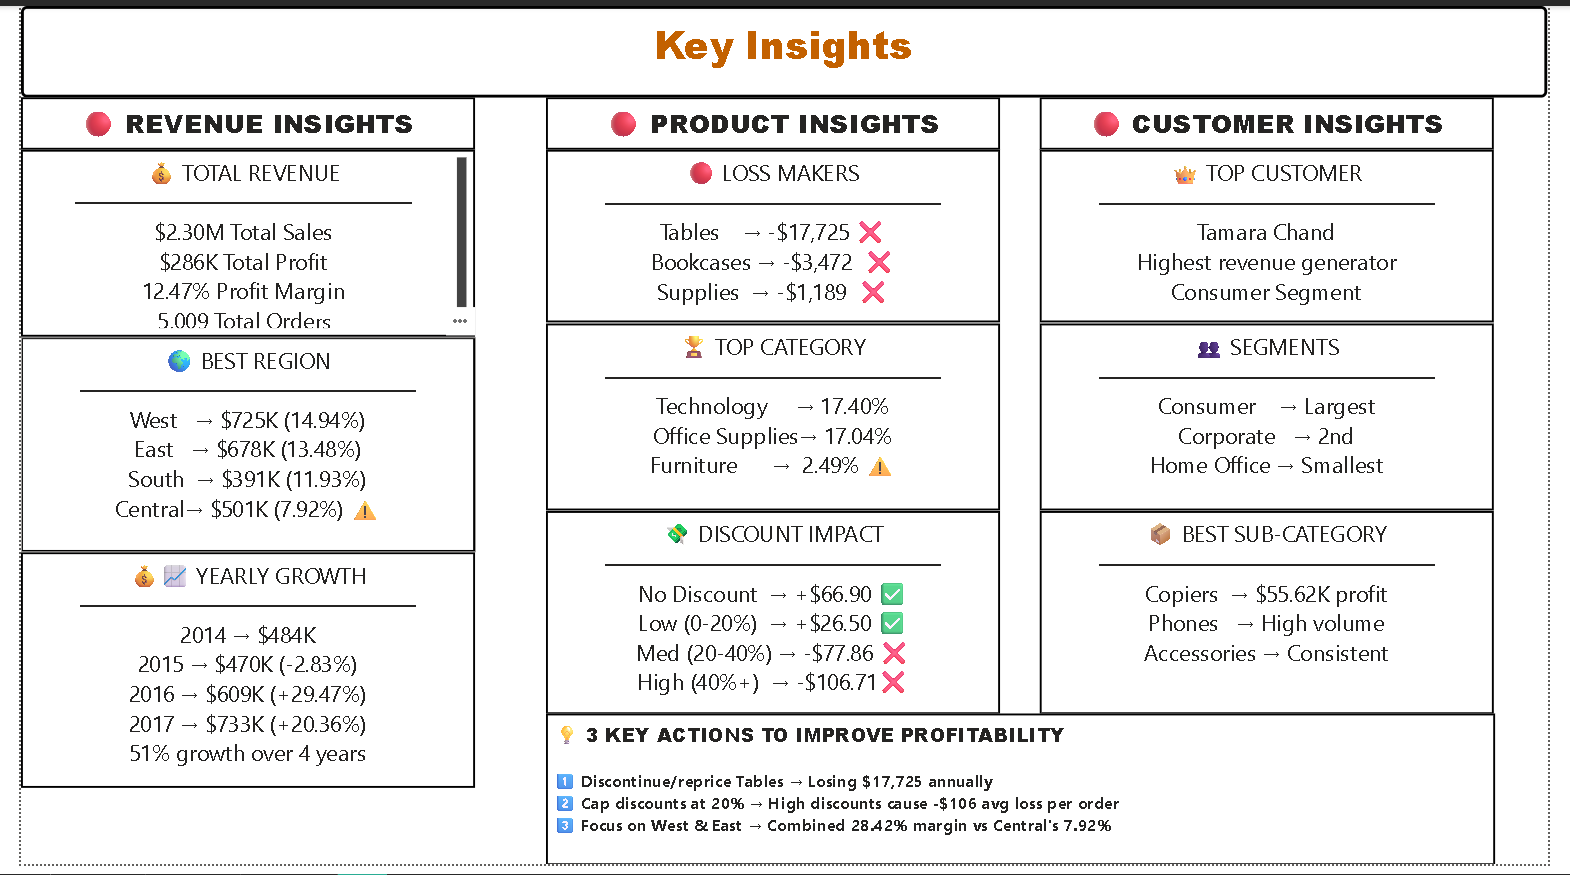

What the dashboard file says about the page in this screenshot:
{"tool":"powerbi","page":{"name":"Page 3","canvas":[1280,720],"ordinal":2},"visuals":[{"type":"textbox","box":[0,0,1280,76.7],"z":0},{"type":"textbox","box":[0,121,381.1,157],"z":1000},{"type":"textbox","box":[0,457.8,381.1,197.8],"z":2000},{"type":"textbox","box":[0,278.1,381.1,179.8],"z":3000},{"type":"textbox","box":[0,76.7,381.1,44.3],"z":4000},{"type":"textbox","box":[439.9,423.1,381.1,170.2],"z":5000},{"type":"textbox","box":[439.9,266.1,381.1,157],"z":6000},{"type":"textbox","box":[439.9,121,381.1,145],"z":7000},{"type":"textbox","box":[854.5,76.7,381.1,44.3],"z":8000},{"type":"textbox","box":[439.9,76.7,381.1,44.3],"z":9000},{"type":"textbox","box":[854.5,423.1,381.1,170.2],"z":9001},{"type":"textbox","box":[854.5,266.1,381.1,157],"z":9002},{"type":"textbox","box":[854.5,121,381.1,145],"z":9003},{"type":"textbox","box":[439.9,593.3,795.8,127],"z":9004}]}

Visuals, with their boxes in screenshot pixels (x1, y1, x2, y2), scaled from the page's 1280x720 canvas onto the 1570x875 screenshot:
textbox: left=0, top=0, right=1569, bottom=93
textbox: left=0, top=147, right=467, bottom=338
textbox: left=0, top=556, right=467, bottom=797
textbox: left=0, top=338, right=467, bottom=556
textbox: left=0, top=93, right=467, bottom=147
textbox: left=540, top=514, right=1007, bottom=721
textbox: left=540, top=323, right=1007, bottom=514
textbox: left=540, top=147, right=1007, bottom=323
textbox: left=1048, top=93, right=1516, bottom=147
textbox: left=540, top=93, right=1007, bottom=147
textbox: left=1048, top=514, right=1516, bottom=721
textbox: left=1048, top=323, right=1516, bottom=514
textbox: left=1048, top=147, right=1516, bottom=323
textbox: left=540, top=721, right=1516, bottom=874
